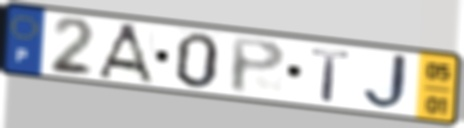0: (174, 31, 223, 91)
2: (49, 16, 99, 78)
A: (95, 21, 157, 87)
J: (361, 52, 416, 112)
P: (229, 35, 289, 96)
T: (309, 46, 353, 104)
